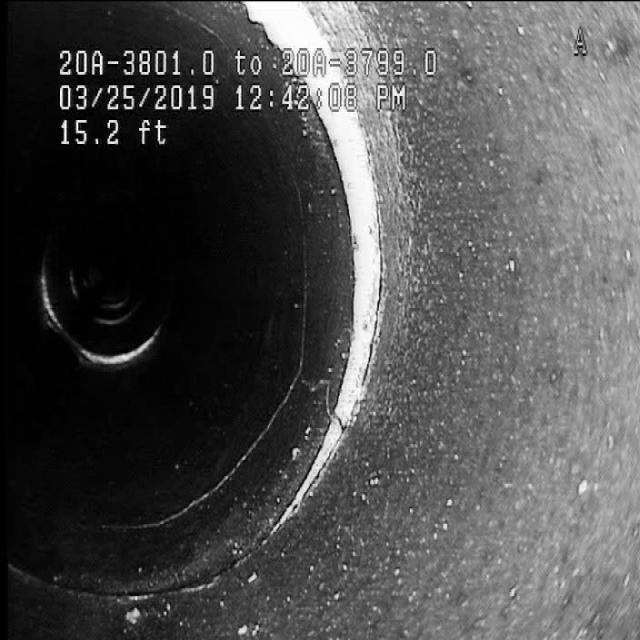Crack: (153, 338, 339, 552)
